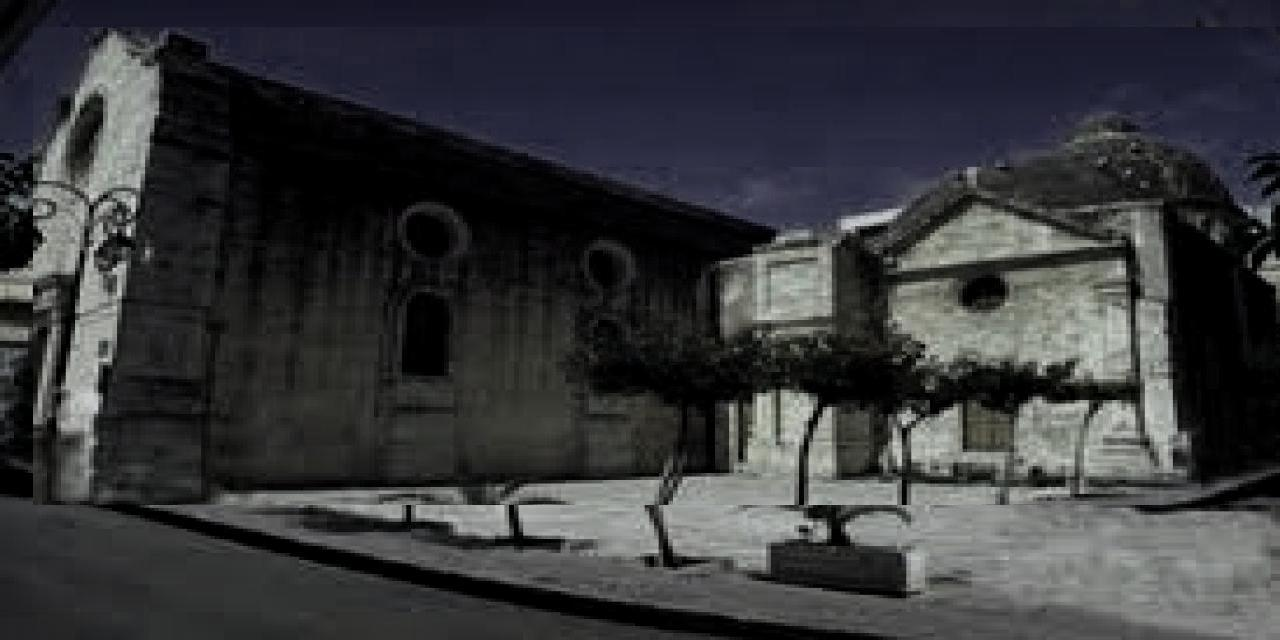Agia Aikaterini: (34, 28, 1280, 506)
